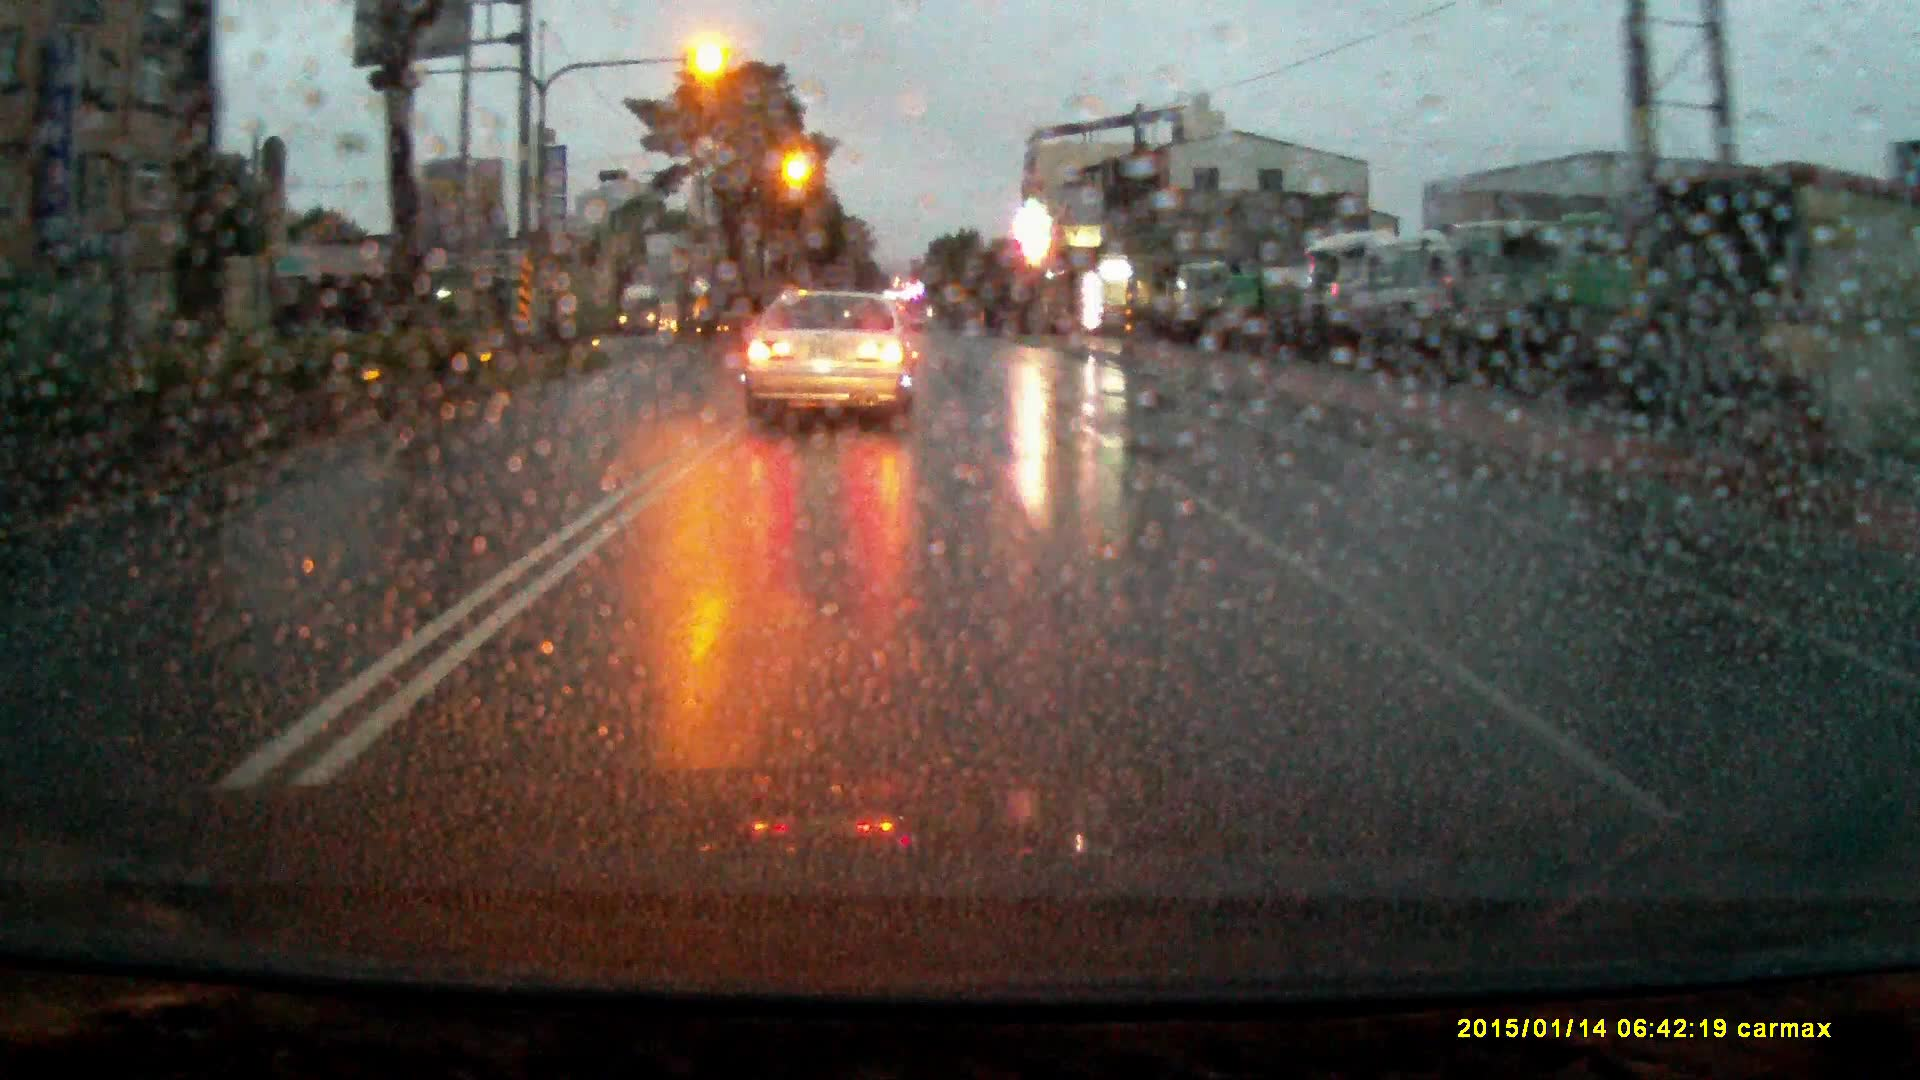vehicle: (742, 291, 922, 433), (1549, 208, 1667, 392), (1447, 222, 1564, 386), (1360, 229, 1461, 363), (1309, 237, 1398, 345), (1213, 268, 1323, 330), (1176, 260, 1237, 334), (621, 286, 678, 334)
